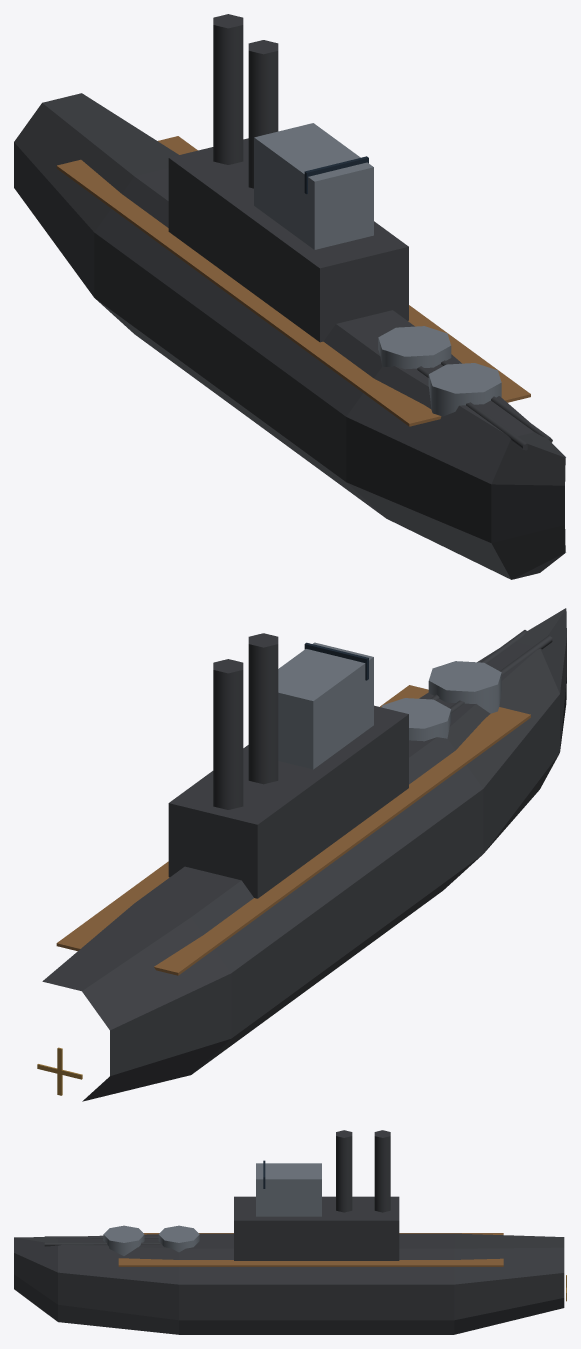
File: veh_naval_warship_a05.glb
The picture shows the model from 3 angles, top to bottom: view 1: azimuth 30°, elevation 25°; view 2: azimuth 150°, elevation 25°; view 3: azimuth 270°, elevation 25°; orthographic projection. The views are drawn at different scales.
Parts seen in each view (by area): view 1: body, turret_0, turret_1; view 2: body, turret_0, turret_1; view 3: body, turret_0, turret_1.
Boxes of the visible parts, <box> form: body: <box>14,14,565,579</box>; turret_0: <box>428,363,552,450</box>; turret_1: <box>378,326,496,409</box>; body: <box>42,608,566,1101</box>; turret_0: <box>428,630,552,713</box>; turret_1: <box>381,675,501,741</box>; body: <box>14,1130,564,1334</box>; turret_0: <box>44,1225,144,1255</box>; turret_1: <box>100,1225,199,1252</box>.
Size of what is drawn, in the model's own units: 3.97 by 9.8 by 25.42.
